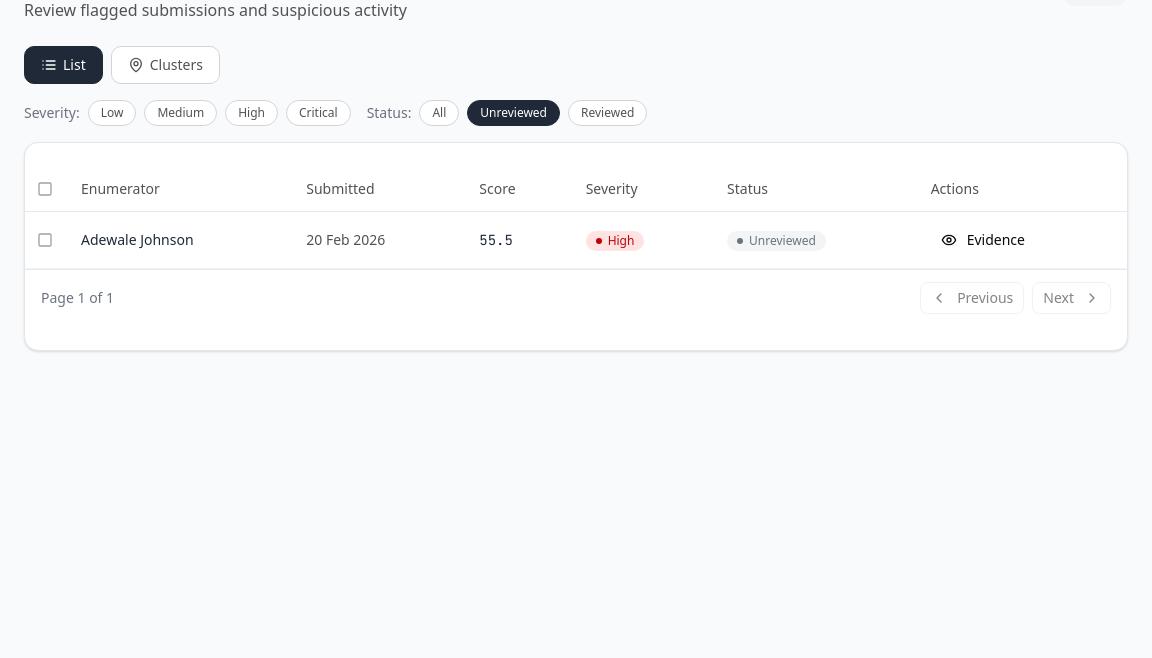
Test: SupervisorFraudPage › AC4.4.3: Evidence panel › opens evidence panel when row is clicked
This screenshot has width=1152, height=658.
Note: Click on the evidence button
Click the button with aria-label "View evidence for Adewale Johnson": (983, 240) 931,224 -> 1035,256
(page scrolled)
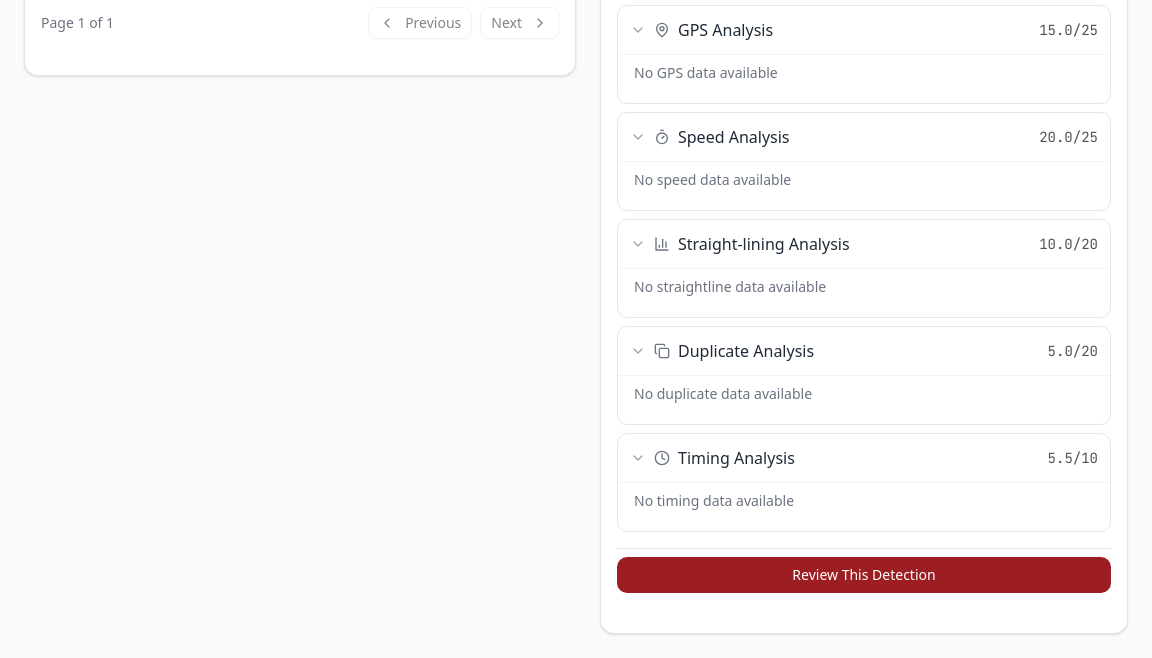
Now the text "GPS Analysis" is shown, box 678,18 -> 773,42
Now the text "Speed Analysis" is shown, box 678,125 -> 790,149
Now the button "Review This Detection" is shown, box 617,557 -> 1111,593
